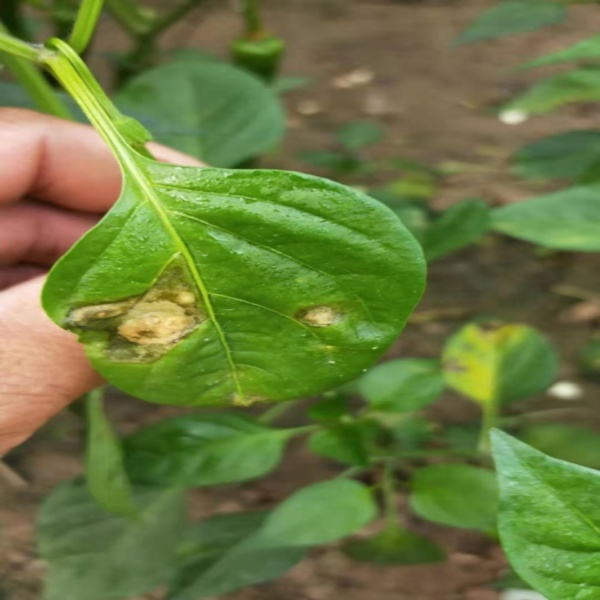Anthrax: (42, 166, 425, 408), (440, 313, 557, 413)
